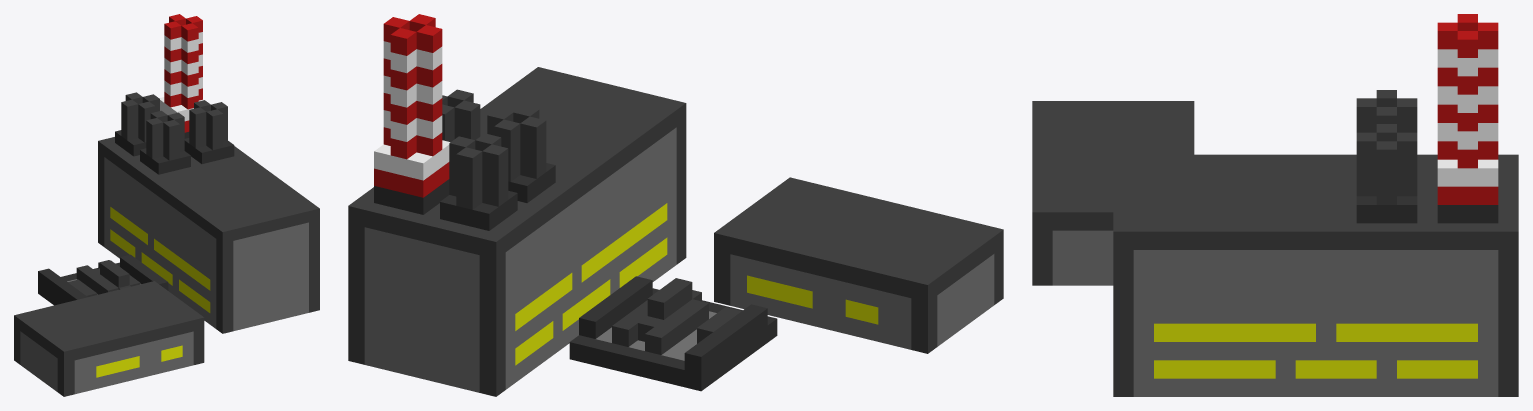
The model's file is product_building.obj.
3 views of the same model, side by side, from view 1: azimuth 30°, elevation 25°; view 2: azimuth 150°, elevation 25°; view 3: azimuth 270°, elevation 25° (orthographic). The views are drawn at different scales.
Size of the model in its own units: 2.6 by 1.9 by 2.4.
1 material, 1 textured.
